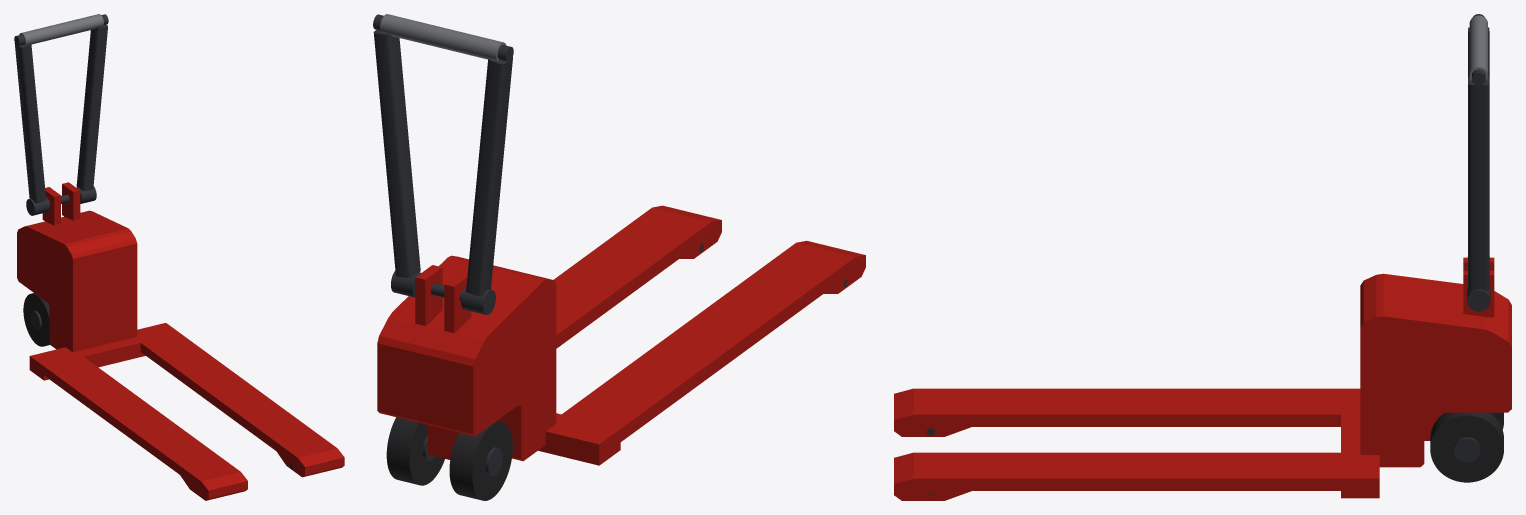
File: pallet-jack.glb
3 views of the same model, side by side, from view 1: azimuth 30°, elevation 25°; view 2: azimuth 150°, elevation 25°; view 3: azimuth 270°, elevation 25° (orthographic). The views are drawn at different scales.
Parts seen in each view (by area): view 1: pump_housing_obj, fork_tine_right_obj, fork_tine_left_obj, right_leg, left_leg, Geom.001, Geom.015, Geom.010, Geom.005, Geom.004; view 2: pump_housing_obj, fork_tine_left_obj, fork_tine_right_obj, right_leg, left_leg, Geom.010, Geom.001, Geom.012, Geom.015, Geom.005, Geom.004, Geom (+1 smaller); view 3: pump_housing_obj, fork_tine_right_obj, fork_tine_left_obj, right_leg, Geom.012, Geom.001, Geom.015.
Part boxes in pixels (box(x1,y1,x2,y2)): pump_housing_obj: box(17, 210, 137, 352); fork_tine_right_obj: box(140, 333, 344, 477); fork_tine_left_obj: box(44, 357, 247, 500); right_leg: box(76, 24, 107, 190); left_leg: box(14, 43, 46, 203); Geom.001: box(29, 323, 179, 380); Geom.015: box(19, 14, 103, 45); Geom.010: box(23, 293, 50, 346); Geom.005: box(62, 182, 80, 220); Geom.004: box(42, 187, 60, 225); pump_housing_obj: box(377, 255, 556, 461); fork_tine_left_obj: box(562, 240, 865, 441); fork_tine_right_obj: box(553, 205, 721, 348); right_leg: box(373, 30, 420, 277); left_leg: box(466, 57, 512, 296); Geom.010: box(449, 421, 512, 500); Geom.001: box(538, 413, 620, 465); Geom.012: box(386, 417, 444, 485); Geom.015: box(380, 14, 506, 60); Geom.005: box(415, 265, 442, 325); Geom.004: box(444, 272, 471, 332); Geom: box(428, 425, 458, 459); pump_housing_obj: box(1360, 273, 1511, 467); fork_tine_right_obj: box(894, 452, 1340, 500); fork_tine_left_obj: box(894, 388, 1340, 436); right_leg: box(1468, 77, 1489, 291); Geom.012: box(1430, 412, 1503, 482); Geom.001: box(1341, 388, 1379, 498); Geom.015: box(1469, 15, 1487, 80).
Bounding box in the file's own units: 0.55 × 1.2 × 1.59.
